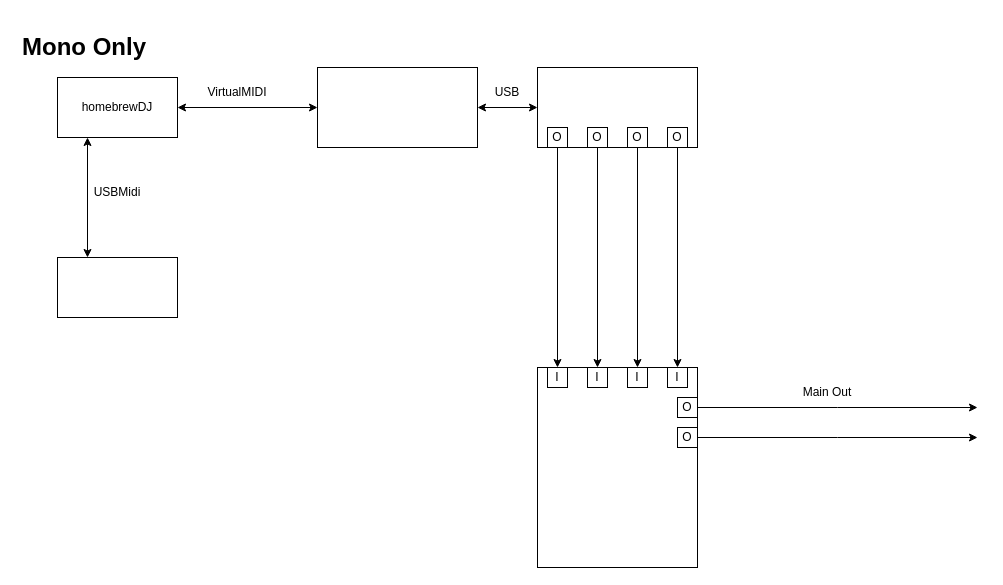
This 1003x585 diagram has some shape labels left out. Here are the shapes that lost their labels. From the top down, the box of each, then its label:
(316, 66, 478, 148): Ableton
(536, 66, 698, 148): Audio Interface
(56, 256, 178, 318): Launchpad
(536, 366, 698, 568): Mixer (Denon in LineIn/AUX Mode)
